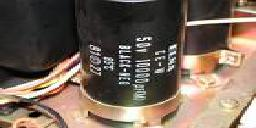Electrolytic Capacitor: (65, 1, 202, 128)
